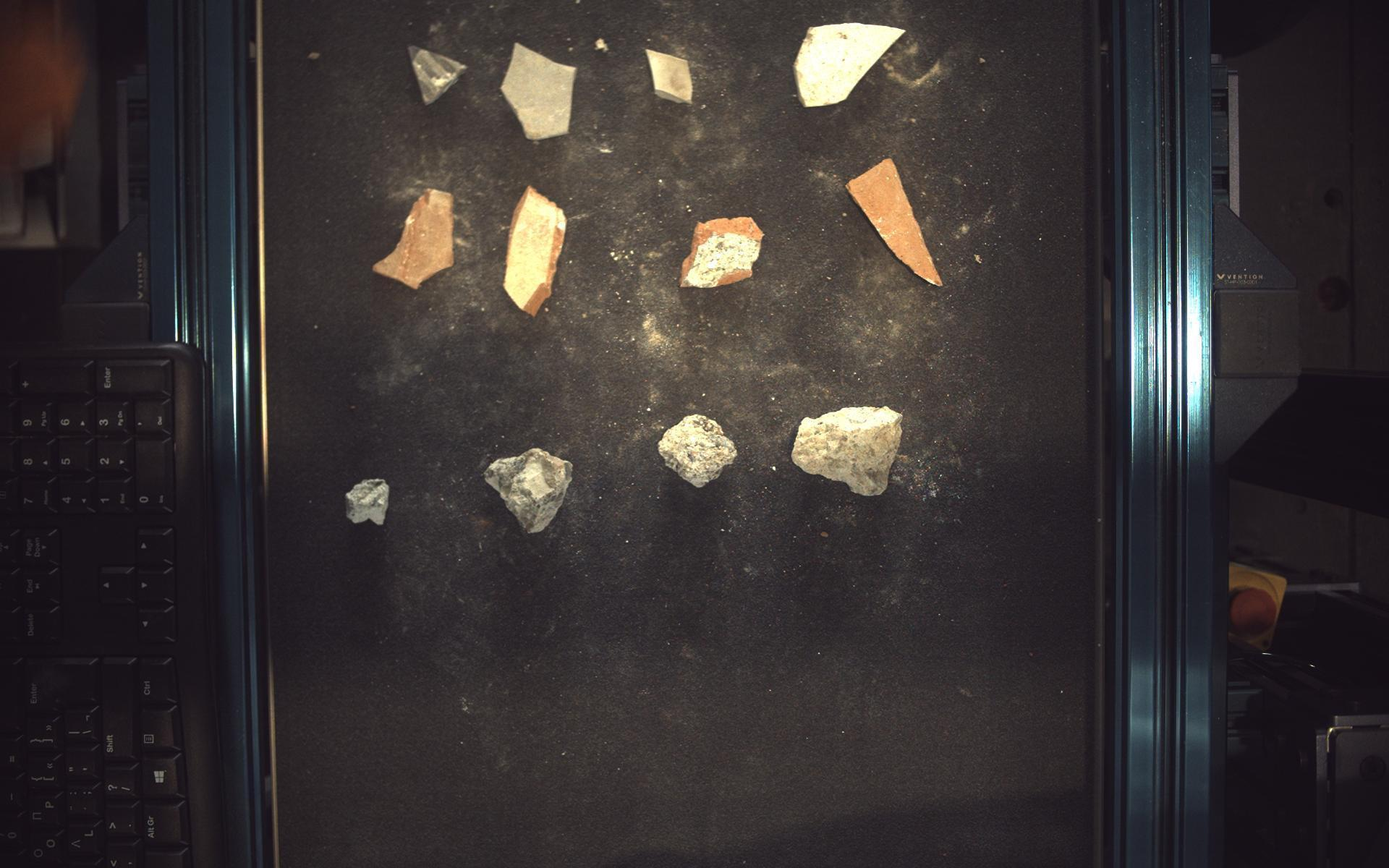brick: (849, 158, 943, 286), (504, 185, 567, 315), (373, 189, 454, 289), (681, 217, 765, 288)
concrete: (793, 407, 904, 496), (483, 448, 573, 534), (659, 414, 738, 488), (345, 479, 388, 526)
tile: (796, 22, 906, 106), (501, 41, 577, 139), (409, 44, 467, 103), (647, 48, 694, 102)
